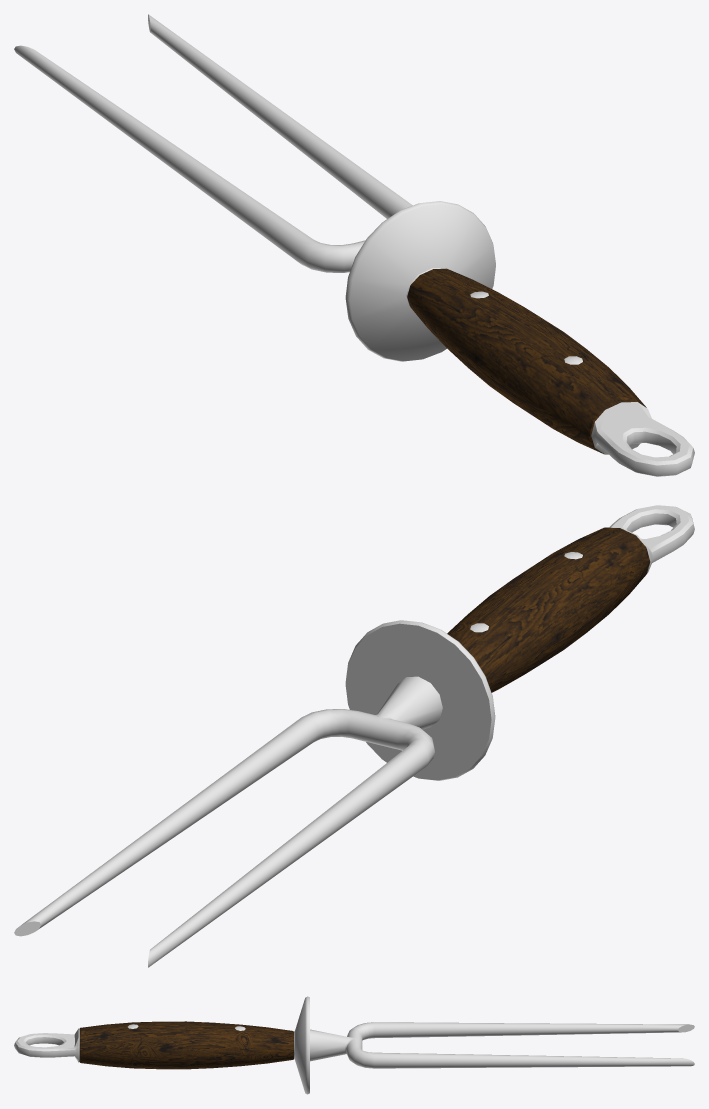
The model's file is fork.glb.
The picture shows the model from 3 angles, top to bottom: view 1: azimuth 30°, elevation 25°; view 2: azimuth 150°, elevation 25°; view 3: azimuth 270°, elevation 25°; orthographic projection. The views are drawn at different scales.
Parts seen in each view (by area): view 1: 004_Kitchen Tools_Ultensils_WH_Straight Carving Fork; view 2: 004_Kitchen Tools_Ultensils_WH_Straight Carving Fork; view 3: 004_Kitchen Tools_Ultensils_WH_Straight Carving Fork.
Part boxes in pixels (<box>): 004_Kitchen Tools_Ultensils_WH_Straight Carving Fork: <box>14,14,694,476</box>; 004_Kitchen Tools_Ultensils_WH_Straight Carving Fork: <box>14,505,694,967</box>; 004_Kitchen Tools_Ultensils_WH_Straight Carving Fork: <box>14,996,694,1094</box>.
Bounding box in the file's own units: 0.0333 × 0.0333 × 0.23.
1 material, 1 textured.
